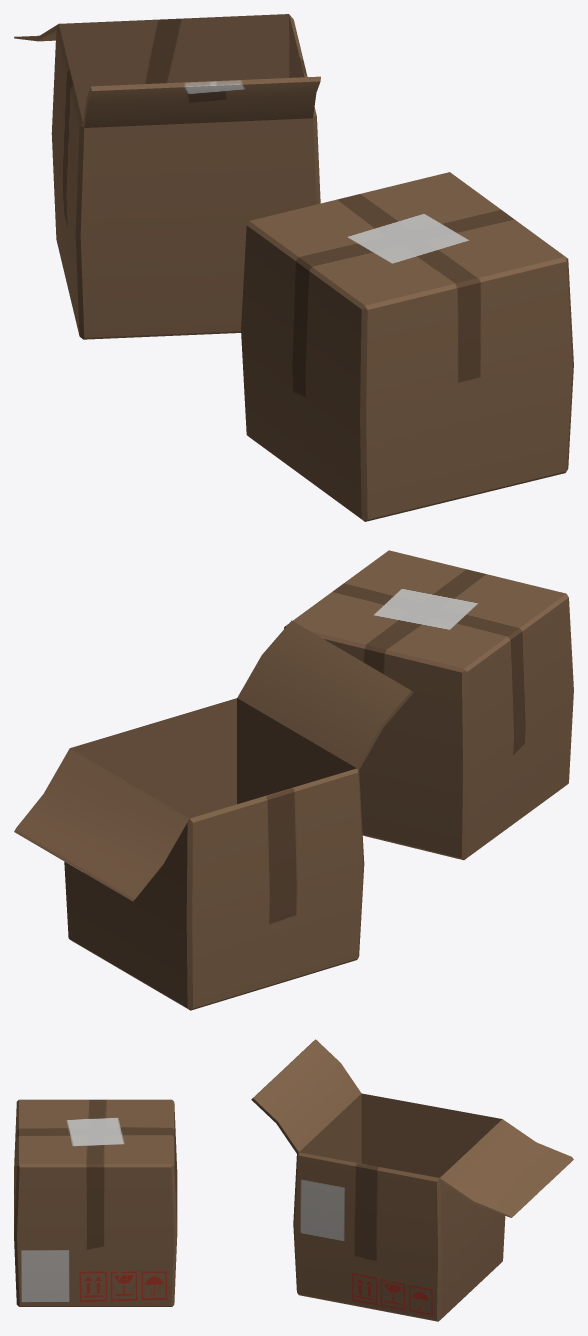
Rendered from Boxes_textured (1).fbx.
3 renders of one model, top to bottom at view 1: azimuth 30°, elevation 25°; view 2: azimuth 150°, elevation 25°; view 3: azimuth 270°, elevation 25°, orthographic. The views are drawn at different scales.
Visible parts, largest first — view 1: pCube1, pCube3; view 2: pCube3, pCube1; view 3: pCube3, pCube1.
Part boxes in pixels (bbox=[...]): pCube1: bbox=[241, 172, 573, 521]; pCube3: bbox=[14, 14, 320, 339]; pCube3: bbox=[14, 620, 413, 1010]; pCube1: bbox=[284, 550, 573, 860]; pCube3: bbox=[251, 1039, 573, 1321]; pCube1: bbox=[14, 1099, 177, 1306].
Size of the model in its own units: 0.3782 by 0.3421 by 0.9216.
Materials: 1 (1 with a texture image).
